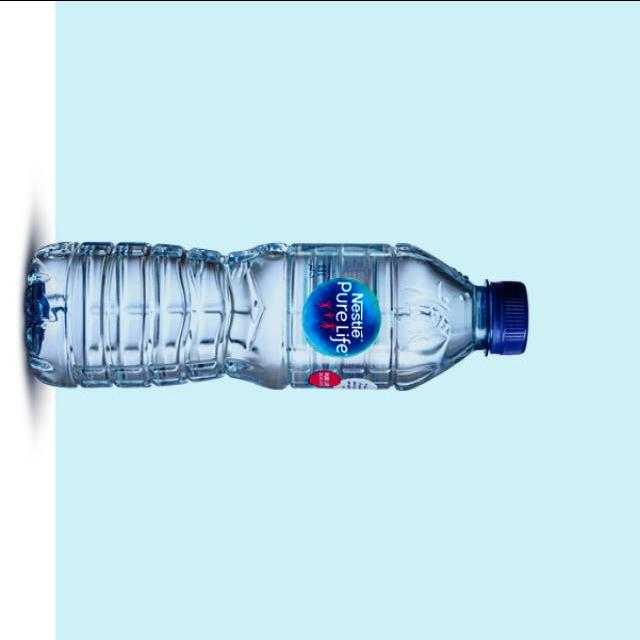cap: (484, 278, 528, 356)
label: (292, 239, 385, 390)
not-crumbled: (22, 236, 535, 394)
